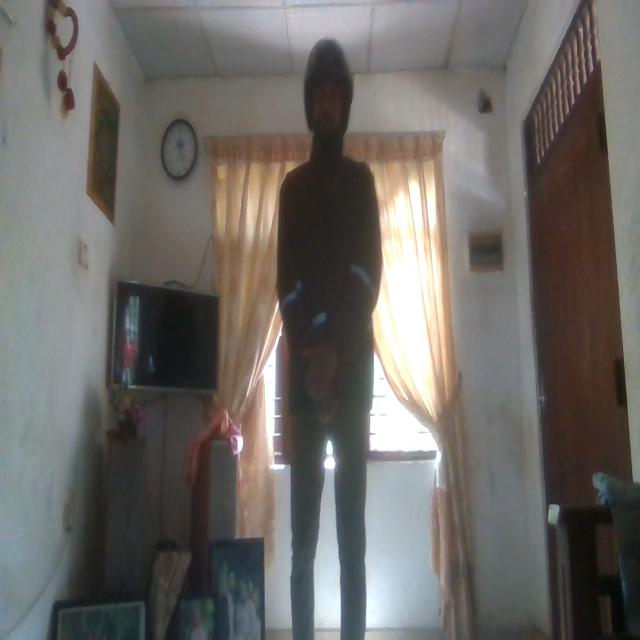Helmet_Wearer: (302, 33, 353, 141)
Jacket_Wearer: (274, 158, 380, 418)
Person: (278, 35, 381, 640)
